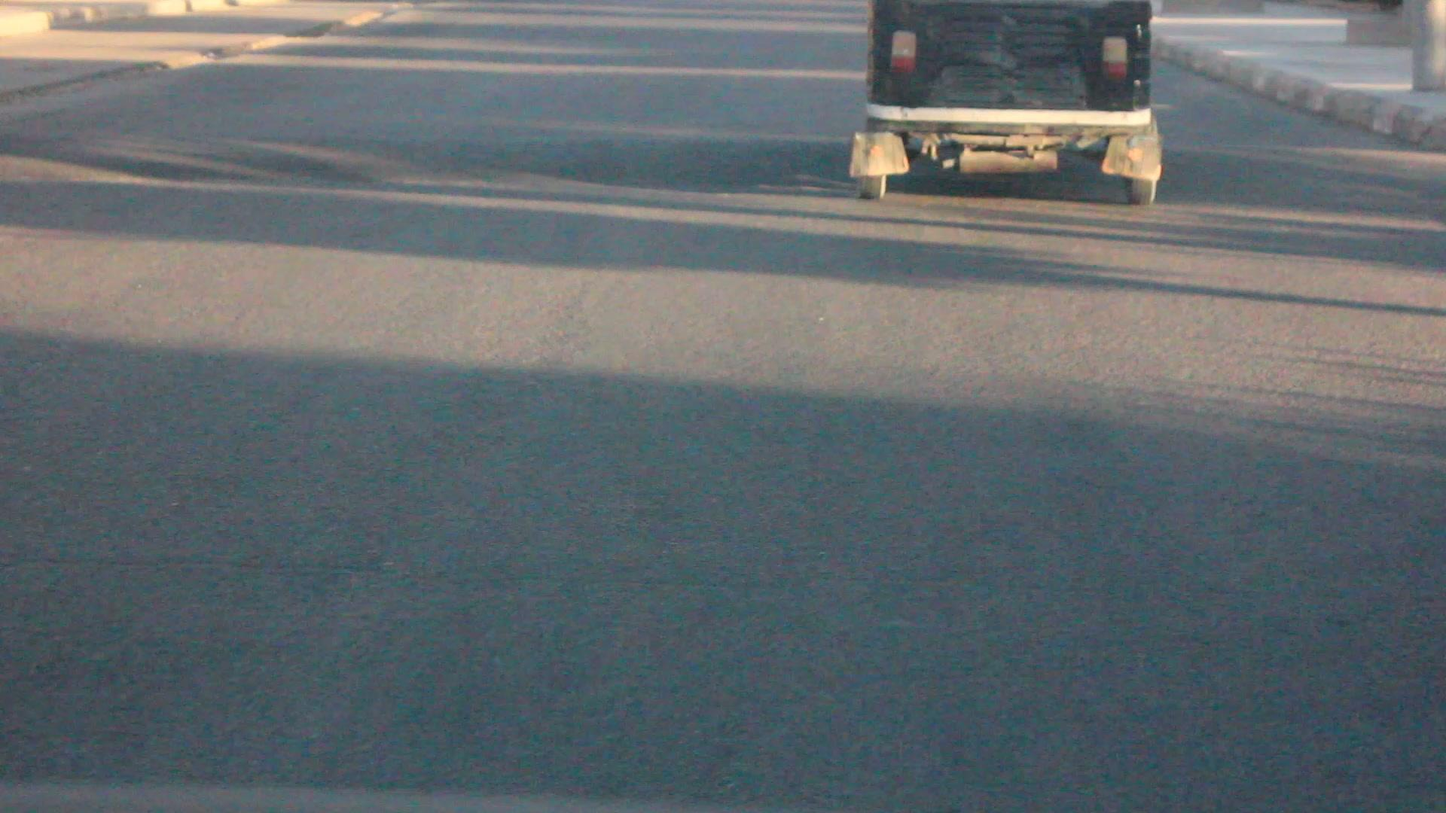Bump: (40, 119, 1446, 245)
